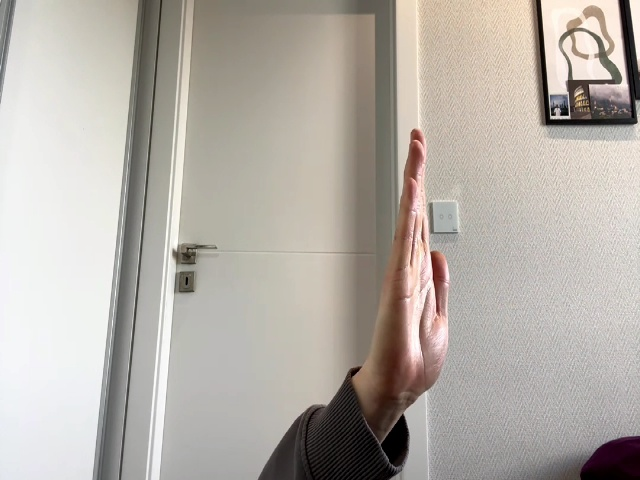SZ: (374, 129, 448, 395)
